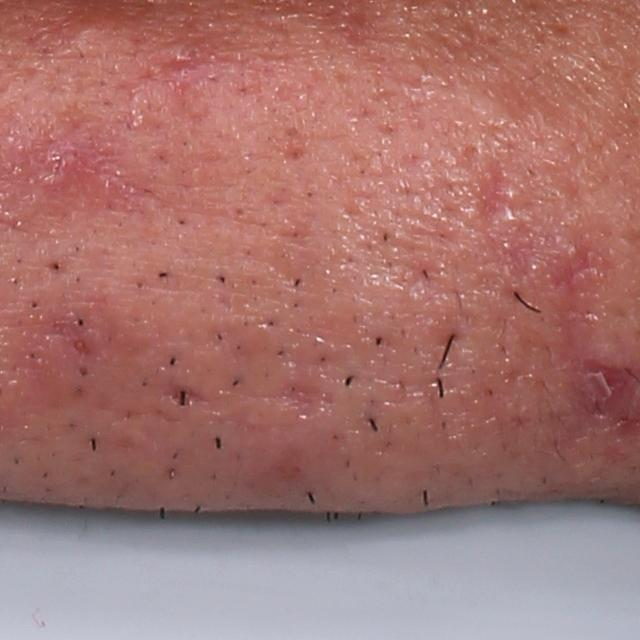atrophic_scar: (546, 234, 609, 363), (266, 374, 336, 418), (477, 156, 513, 237)
